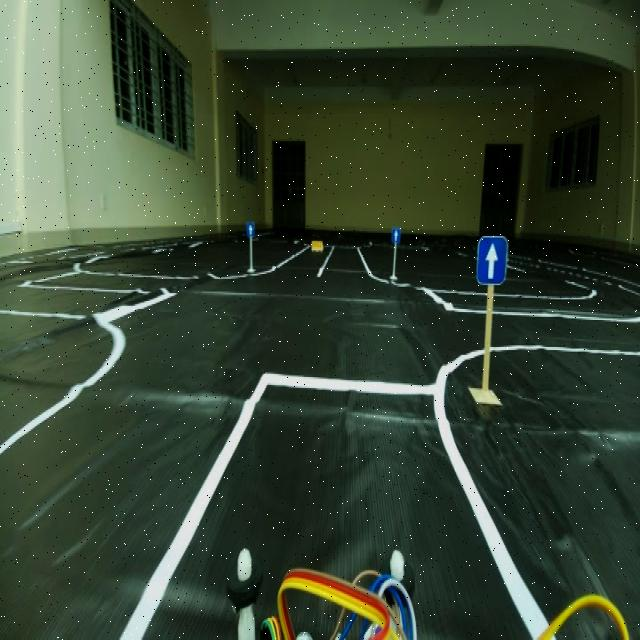onewayroad: (472, 230, 514, 293), (244, 214, 256, 237), (390, 220, 400, 247)
roadblock: (309, 234, 330, 259)
